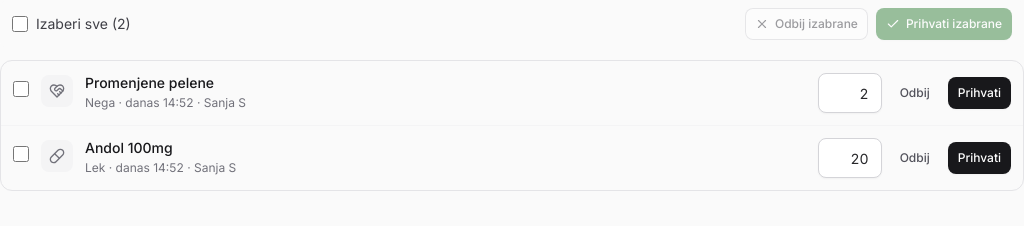
Test: EntryReview › grupno prihvatanje: neuspele stavke ostaju izabrane i prikazuju razlog
Step 1. Click the checkbox labelled "Izaberi sve (2)" → click(20, 24), box top-left (12, 16), bottom-right (28, 32)
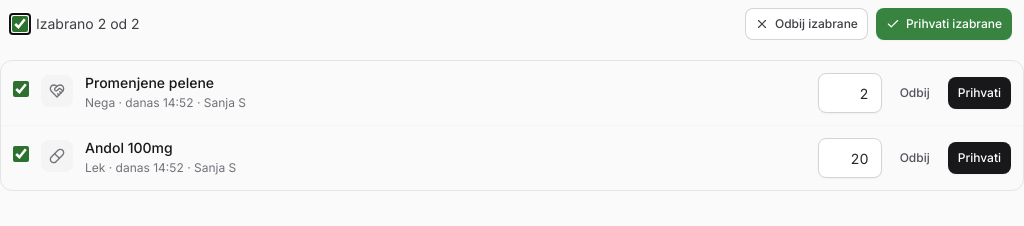
Step 2. Click the button "Prihvati izabrane" → click(944, 24), box top-left (876, 8), bottom-right (1012, 40)
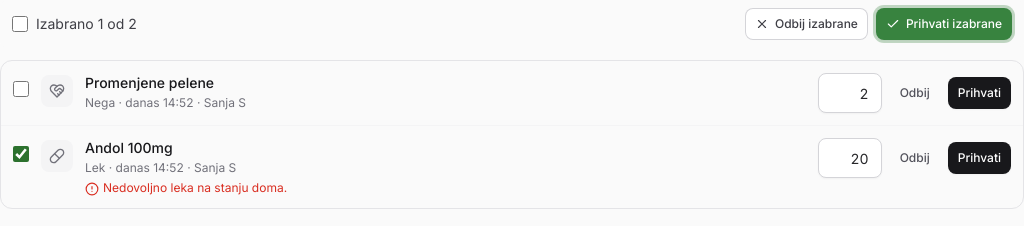
Expected: the checkbox named "Izaberi Andol 100mg" is checked, top-left (13, 146), bottom-right (29, 162)
Expected: the message reads "Nedovoljno leka na stanju doma.", top-left (103, 180), bottom-right (287, 195)
Expected: the checkbox named "Izaberi Promenjene pelene" is not checked, top-left (13, 81), bottom-right (29, 97)
